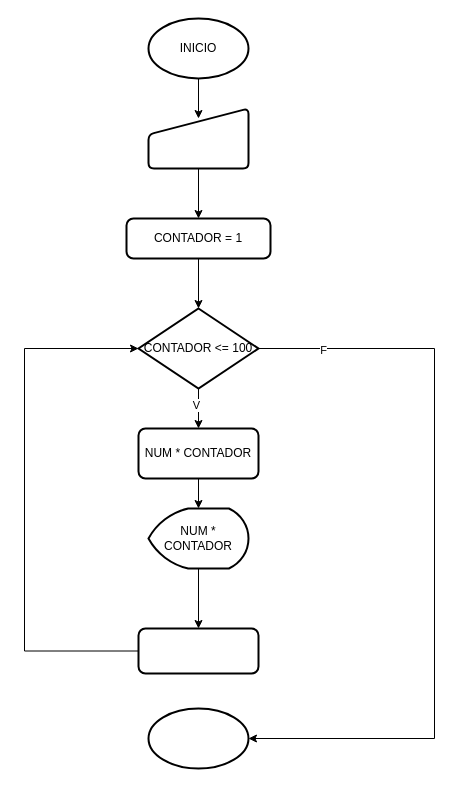
The diagram is 460 pixels wide and 786 high, and some of its shapes have lost their labels. Here are the shapes that lost their labels. From the top down, the centre of each, then its label:
[198,138]: NUM
[198,650]: CONTADOR++
[198,738]: FIM
